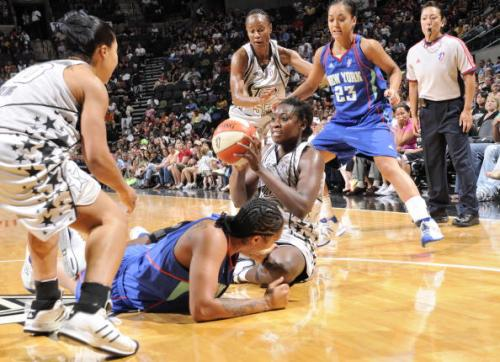10+: (1, 5, 483, 327)
down: (132, 194, 301, 311), (248, 102, 330, 271)
